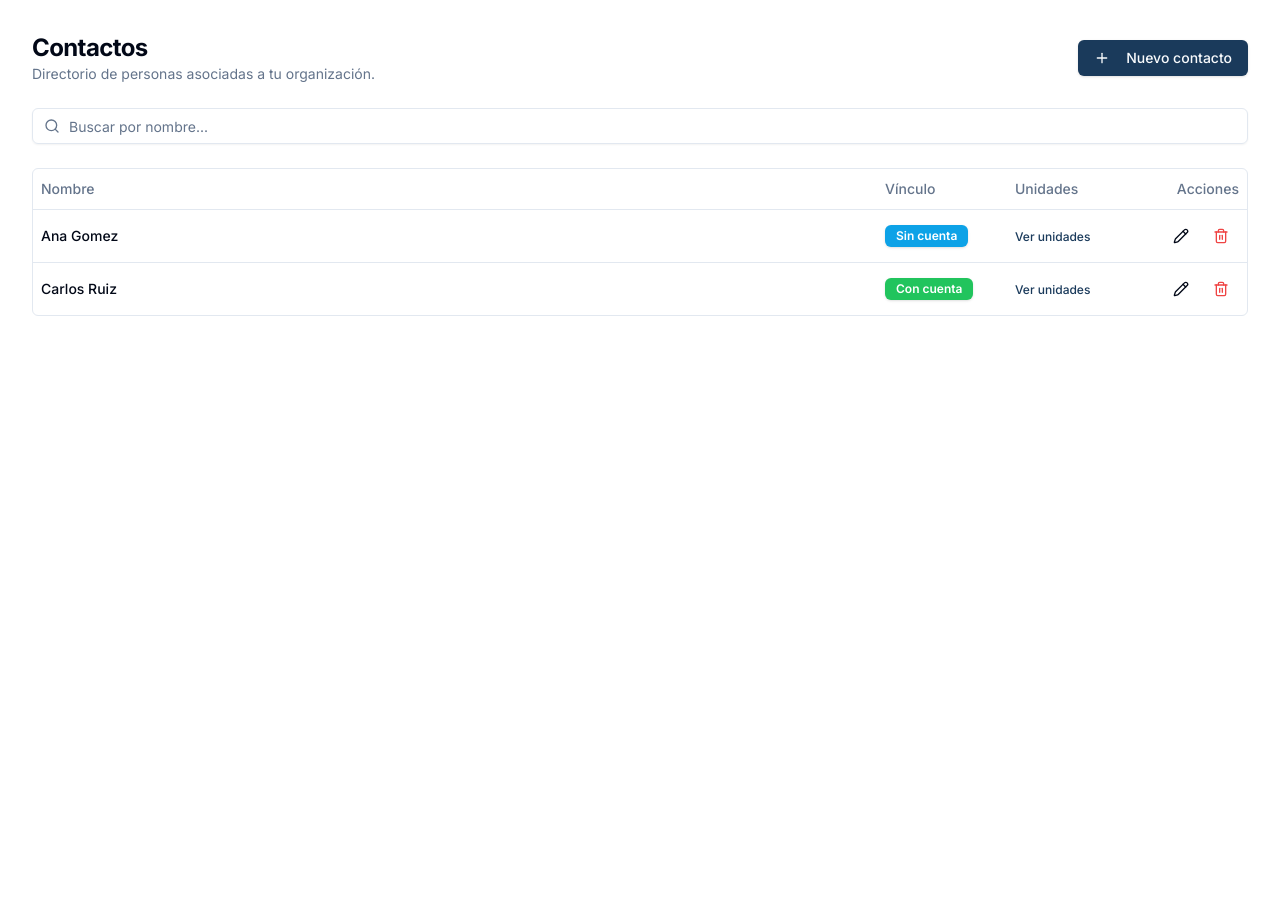
Scenario: ContactosPage › bloquea el submit y muestra error de validación cuando el email es inválido
This screenshot has width=1280, height=900.
Step 1. Click the button "Nuevo contacto" → (1163, 58), box [1078,40,1248,76]
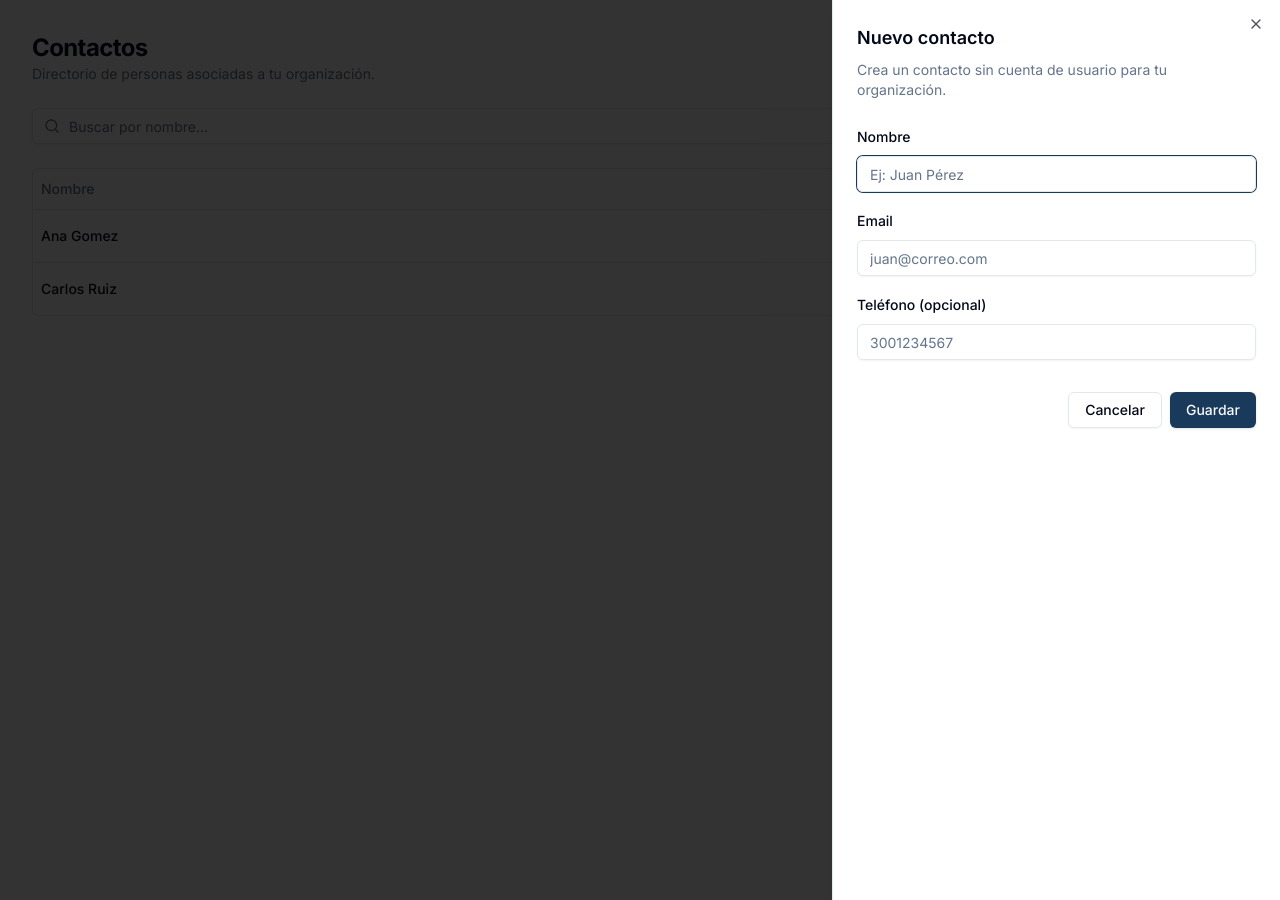
Step 2. Type "Test" into the field labelled "Nombre" → (1056, 174), box [857,156,1256,192]
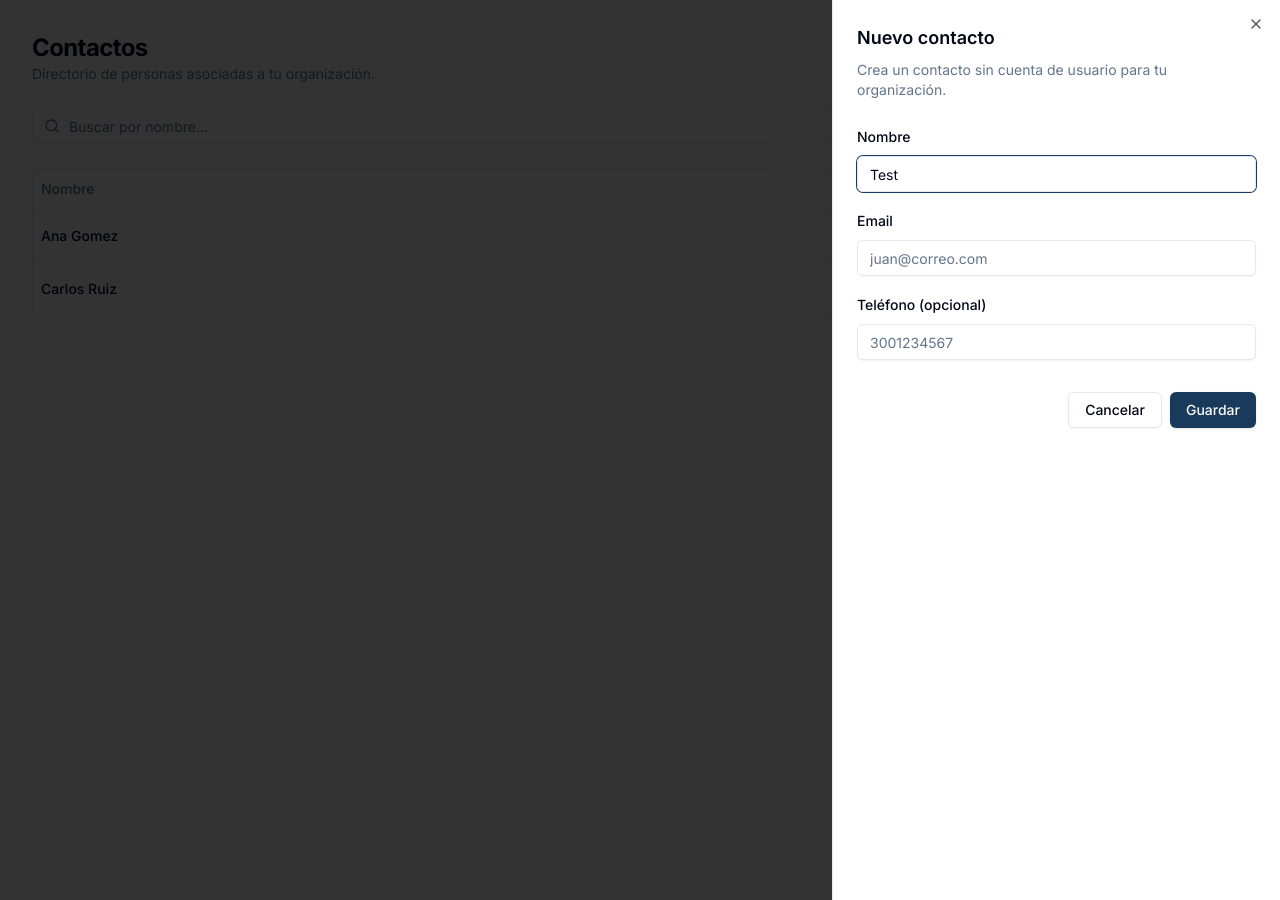
Step 3. Type "no-es-un-email" into the field labelled "Email" → (1056, 258), box [857,240,1256,276]
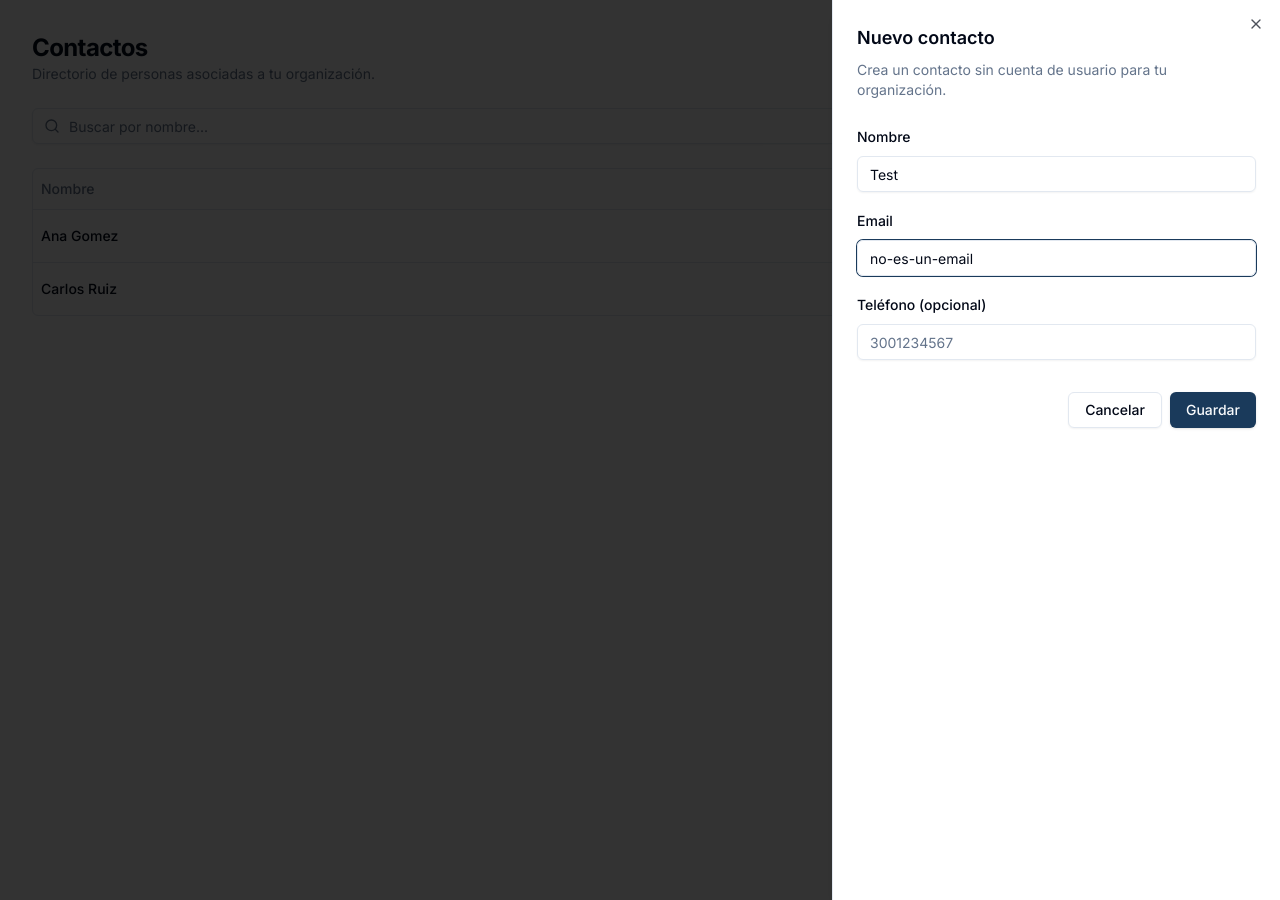
Step 4. Click the button "Guardar" → (1213, 410), box [1170,392,1256,428]
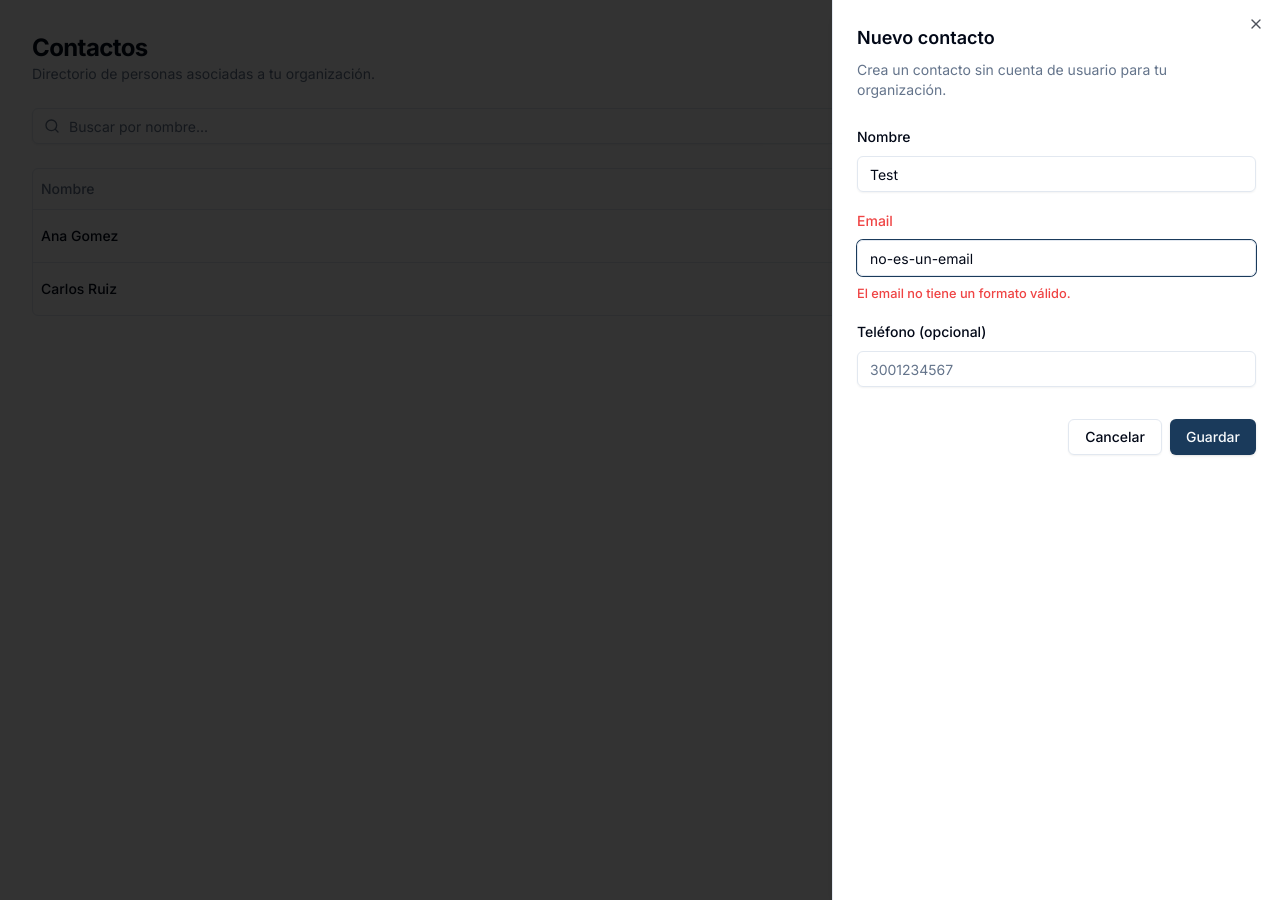
Now the text "El email no tiene un formato válido." is shown, box [857,286,1071,301]
